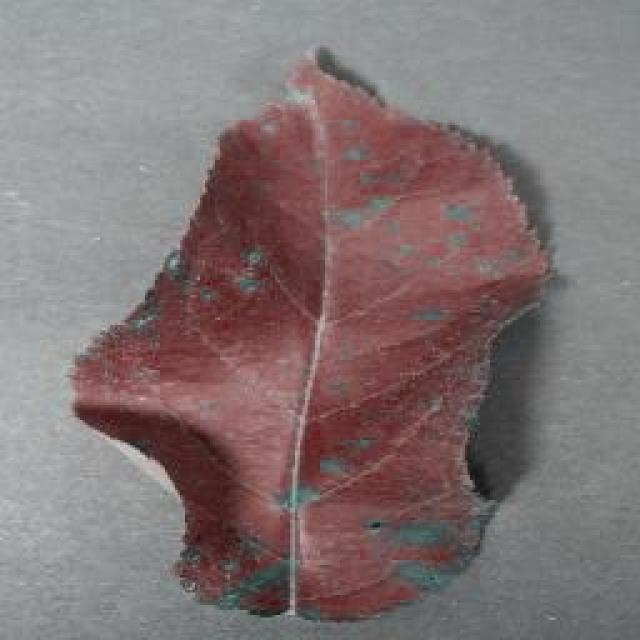apple healthy: (65, 42, 555, 622)
